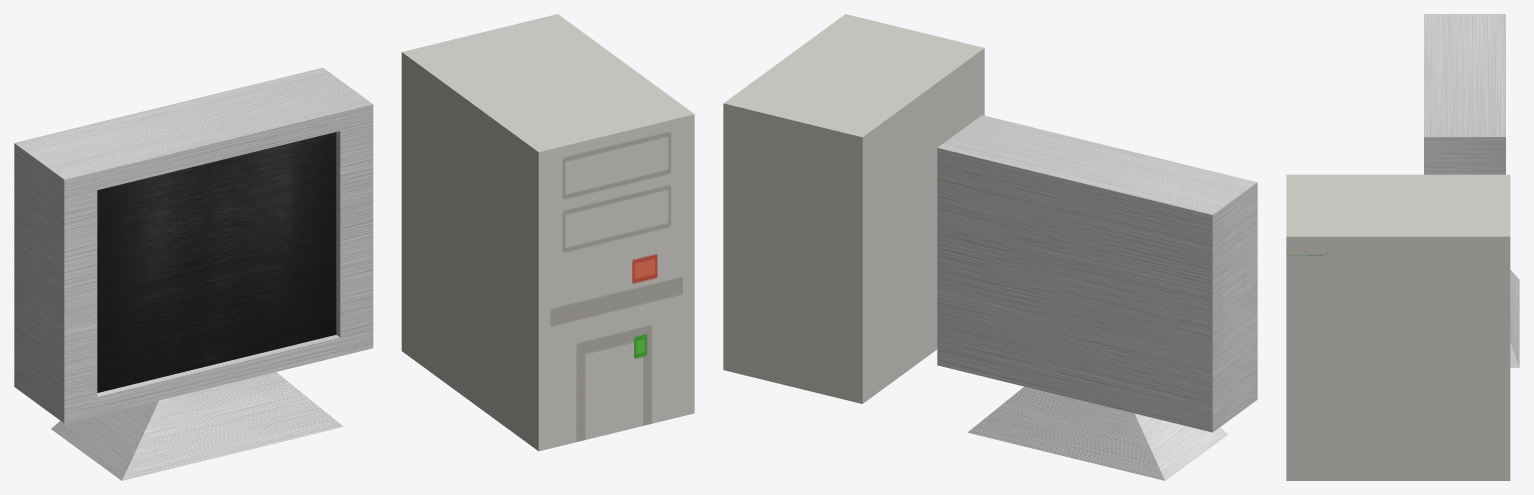
3 renders of one model, left to right at view 1: azimuth 30°, elevation 25°; view 2: azimuth 150°, elevation 25°; view 3: azimuth 270°, elevation 25°, orthographic. The views are drawn at different scales.
Visible parts, largest first — view 1: oak_lab:oak_lab10:pCube41 oak_lab:group10, oak_lab:polySurface10, oak_lab:oak_lab14:oak_lab13:oak_lab12:oak_lab10:pCube41 oak_lab:, oak_lab:oak_lab16:oak_lab14:oak_lab13:oak_lab12:oak_lab10:pCube4; view 2: oak_lab:polySurface10, oak_lab:oak_lab10:pCube41 oak_lab:group10, oak_lab:oak_lab16:oak_lab14:oak_lab13:oak_lab12:oak_lab10:pCube4; view 3: oak_lab:oak_lab10:pCube41 oak_lab:group10, oak_lab:polySurface10, oak_lab:oak_lab16:oak_lab14:oak_lab13:oak_lab12:oak_lab10:pCube4.
Boxes of the visible parts, x1,y1,x2,y2 form: oak_lab:oak_lab10:pCube41 oak_lab:group10: (401,14,694,451); oak_lab:polySurface10: (14,67,373,423); oak_lab:oak_lab14:oak_lab13:oak_lab12:oak_lab10:pCube41 oak_lab:: (97,132,336,392); oak_lab:oak_lab16:oak_lab14:oak_lab13:oak_lab12:oak_lab10:pCube4: (51,372,343,480); oak_lab:polySurface10: (937,115,1257,432); oak_lab:oak_lab10:pCube41 oak_lab:group10: (723,14,984,403); oak_lab:oak_lab16:oak_lab14:oak_lab13:oak_lab12:oak_lab10:pCube4: (967,386,1228,480); oak_lab:oak_lab10:pCube41 oak_lab:group10: (1286,174,1510,480); oak_lab:polySurface10: (1424,14,1505,174); oak_lab:oak_lab16:oak_lab14:oak_lab13:oak_lab12:oak_lab10:pCube4: (1510,270,1519,367).
Size of the model in its own units: 4.08 by 2.18 by 1.84.
Materials: 5 (4 with a texture image).
